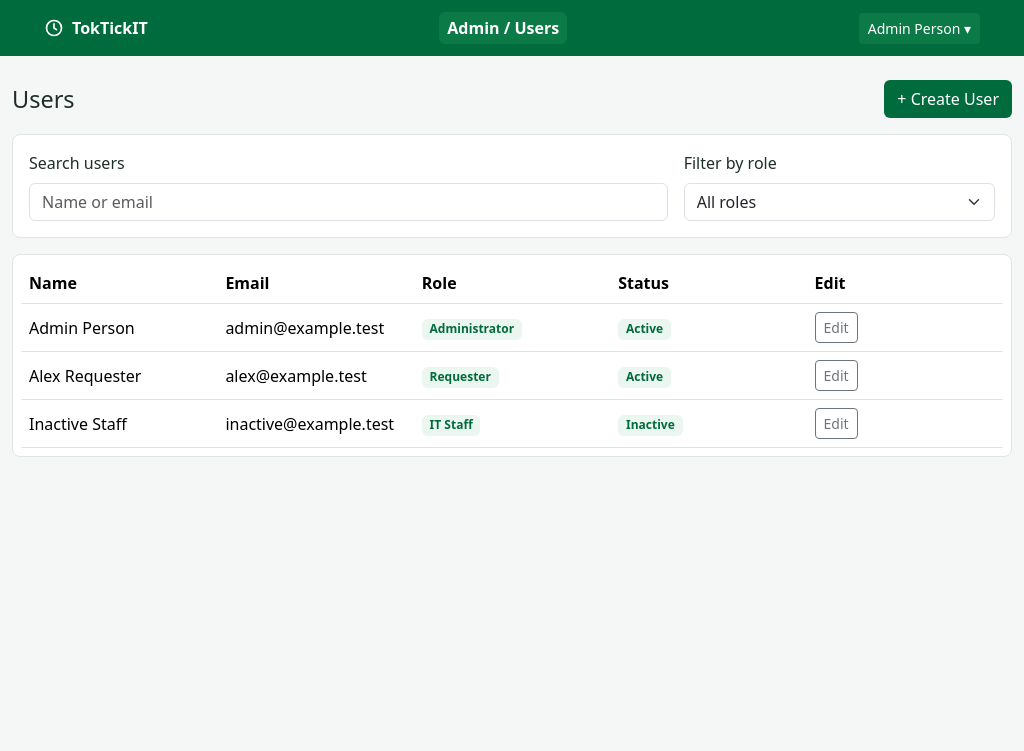
Issue 7 User Management (UI-08, focused UI-09 accessibility) › edits name/email/role and deactivates without sending password fields
The width and height of the screenshot is (1024, 751).
Click the button "Edit" in the row of "Alex Requester" at (836, 376), box 815,360 -> 858,391
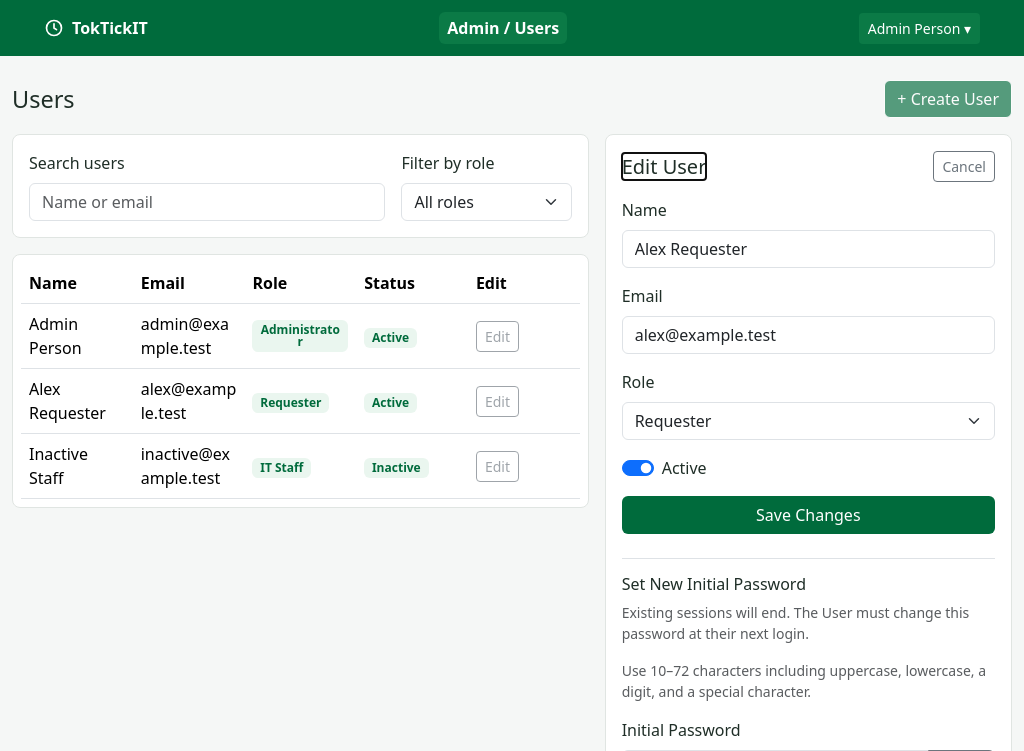
Now the field labelled "Email" holds "alex@example.test", box 622,316 -> 995,354
Replace the text in the field labelled "Name" with "Updated Person" at (808, 249), box 622,230 -> 995,268
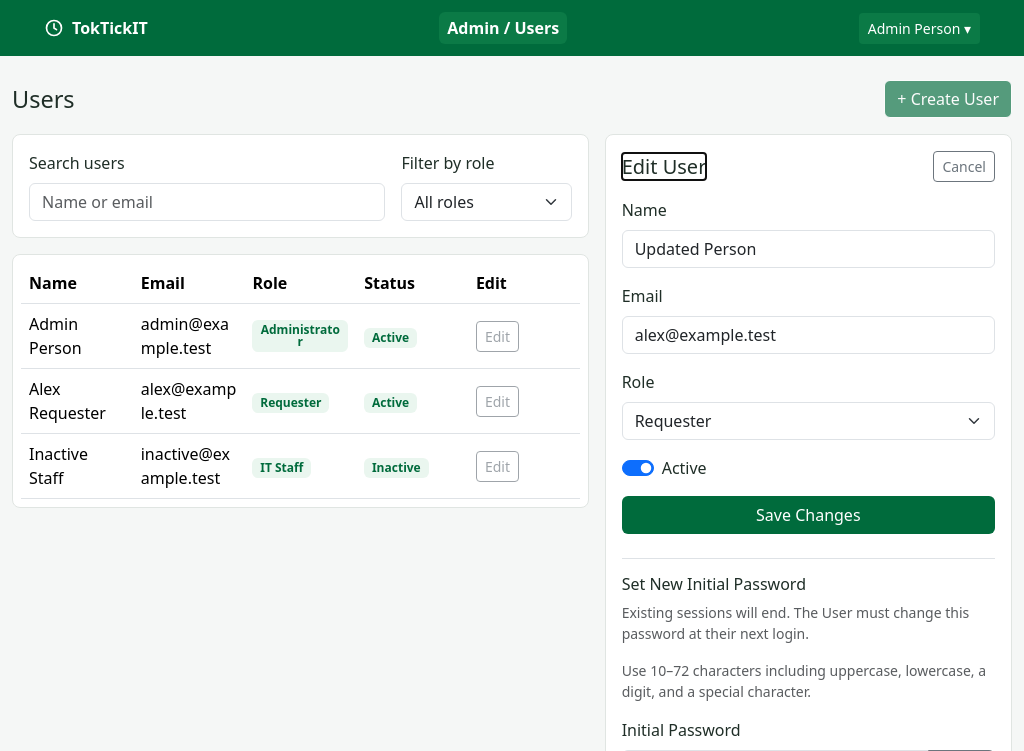
Replace the text in the field labelled "Email" with "updated@example.test" at (808, 335), box 622,316 -> 995,354
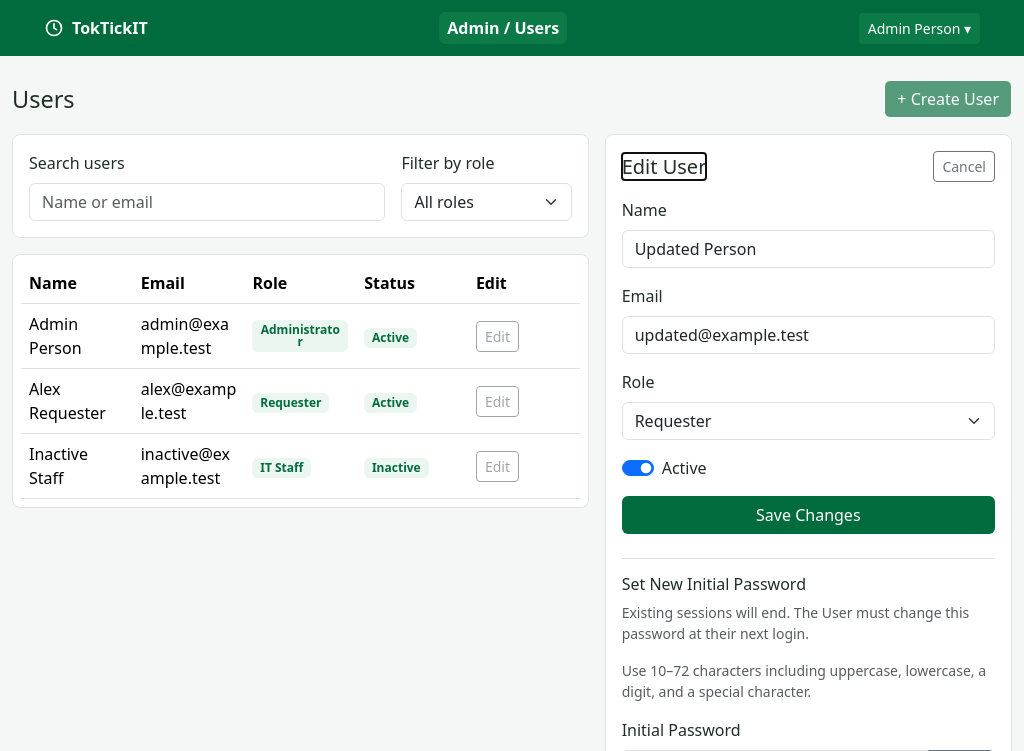
Select "IT Staff" in the dropdown labelled "Role" at (808, 421), box 622,402 -> 995,440
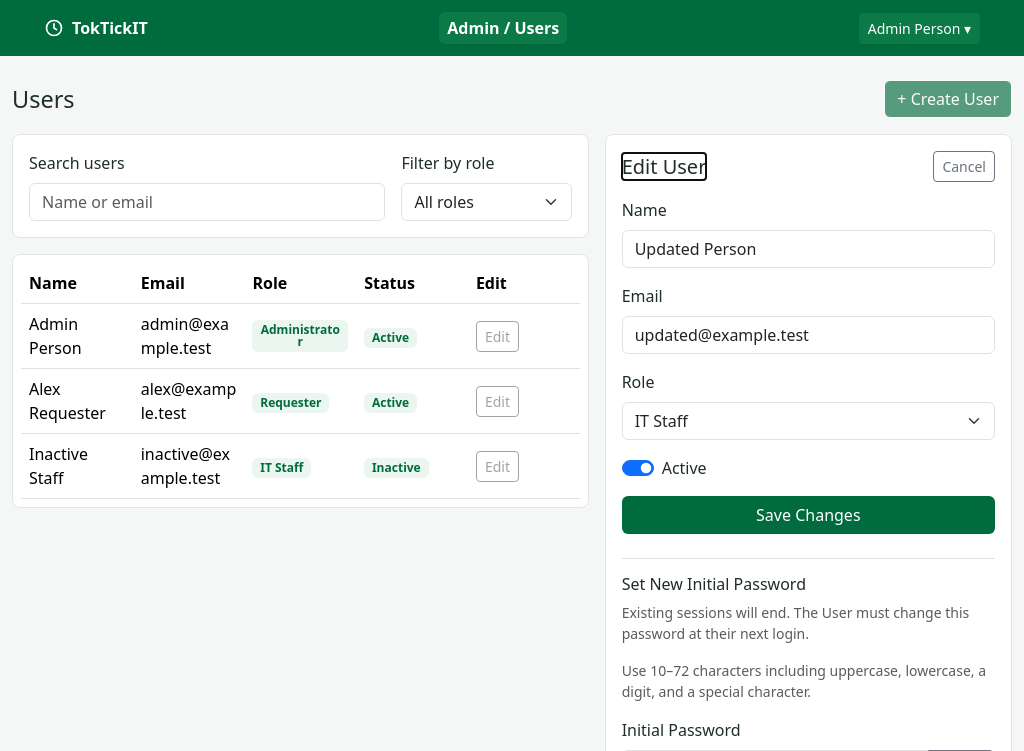
Click the checkbox labelled "Active" at (638, 468), box 622,460 -> 654,476
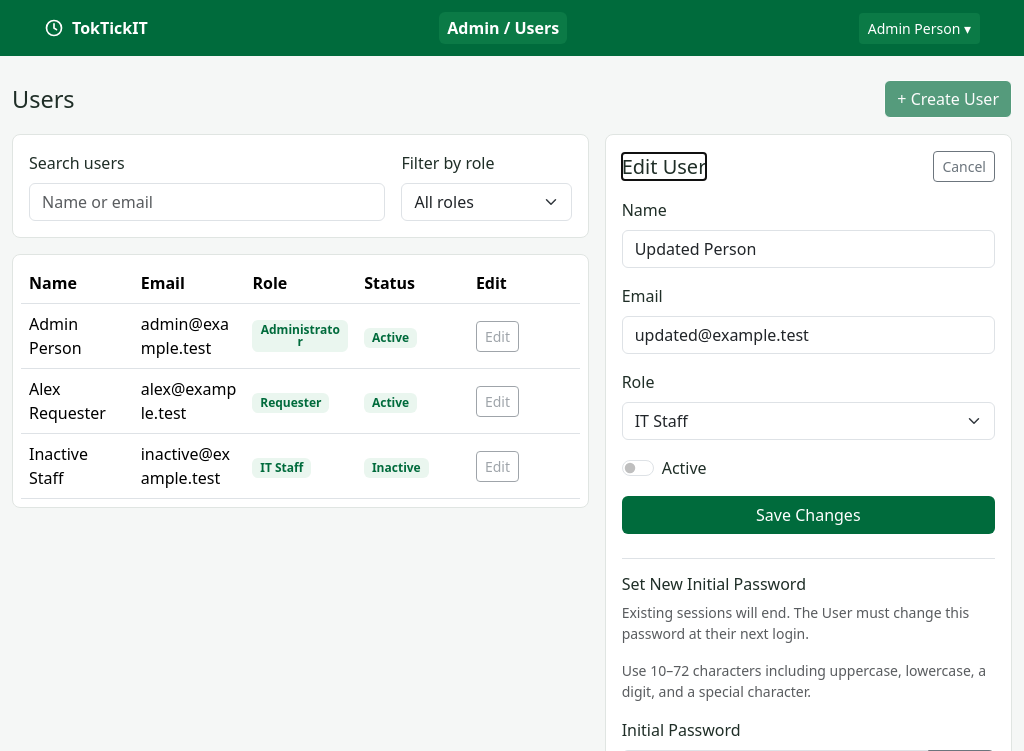
Click the button "Save Changes" at (808, 515), box 622,496 -> 995,534
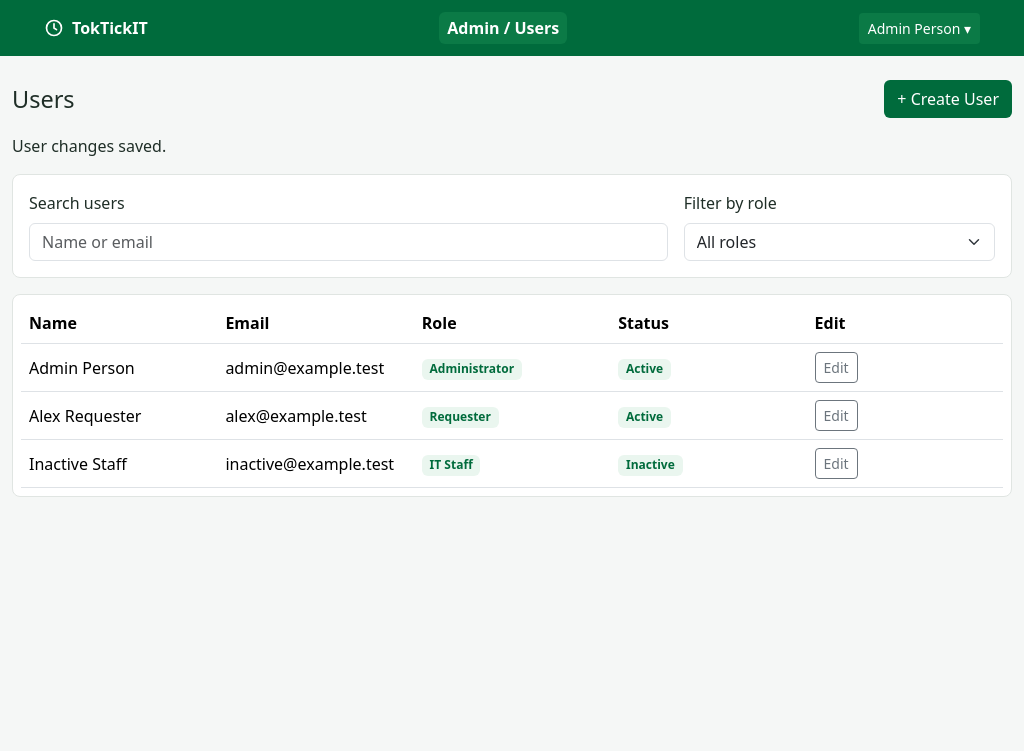
Now the message reads "User changes saved.", box 12,135 -> 166,157
